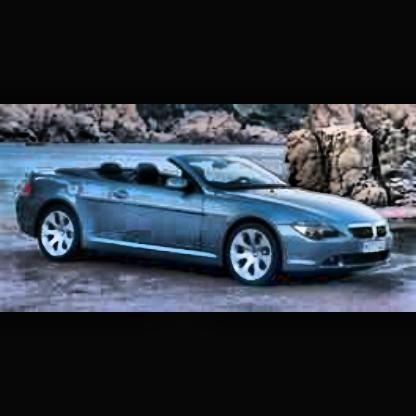BMW 6 Series Convertible 2007: (10, 146, 400, 294)
